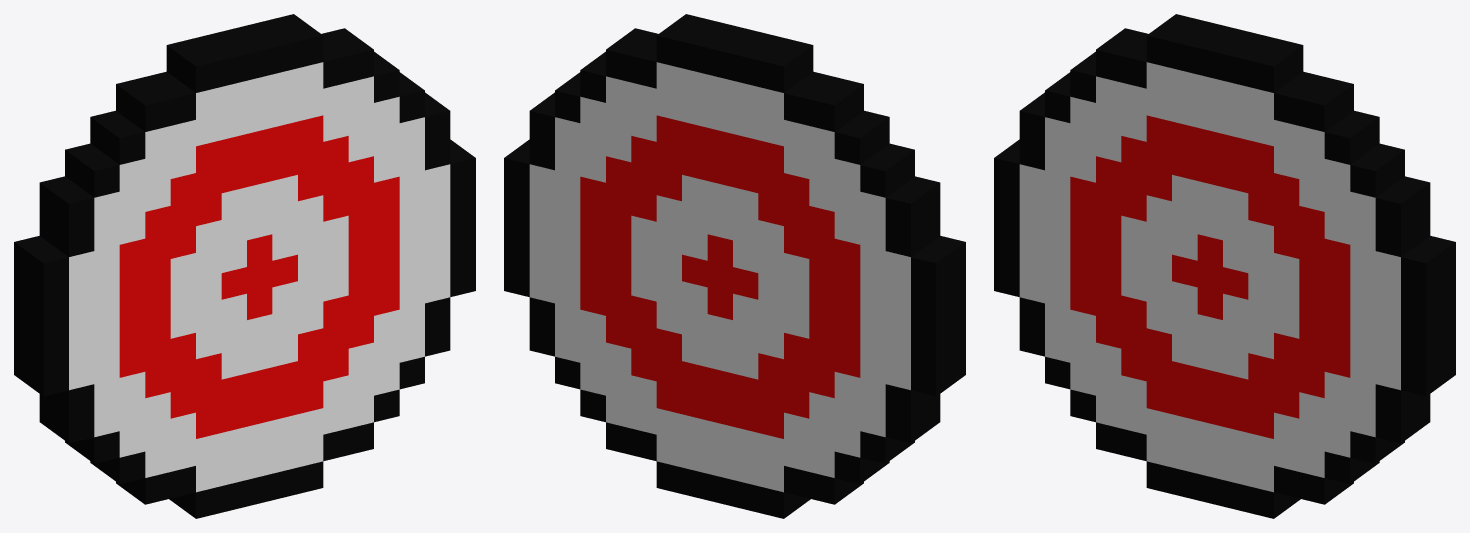
File: tiro.obj
The picture shows the model from 3 angles, left to right: view 1: azimuth 30°, elevation 25°; view 2: azimuth 150°, elevation 25°; view 3: azimuth 330°, elevation 25°; orthographic projection.
Parts seen in each view (by area): view 1: mesh; view 2: mesh; view 3: mesh.
Part boxes in pixels (box(x1,y1,x2,y2)): mesh: box(14, 14, 475, 518); mesh: box(504, 14, 965, 518); mesh: box(994, 14, 1455, 518).
Bounding box in the file's own units: 1.7 × 1.7 × 0.2.
